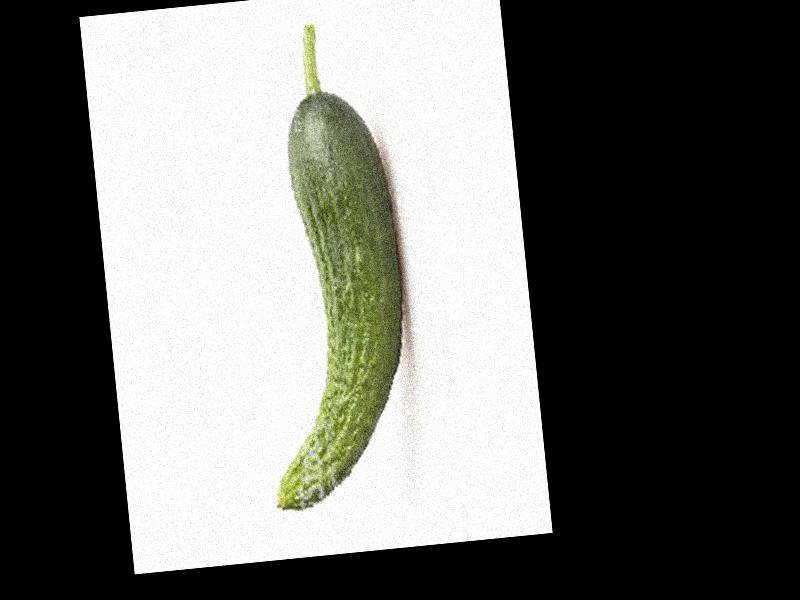Cucumber: (231, 17, 423, 512)
